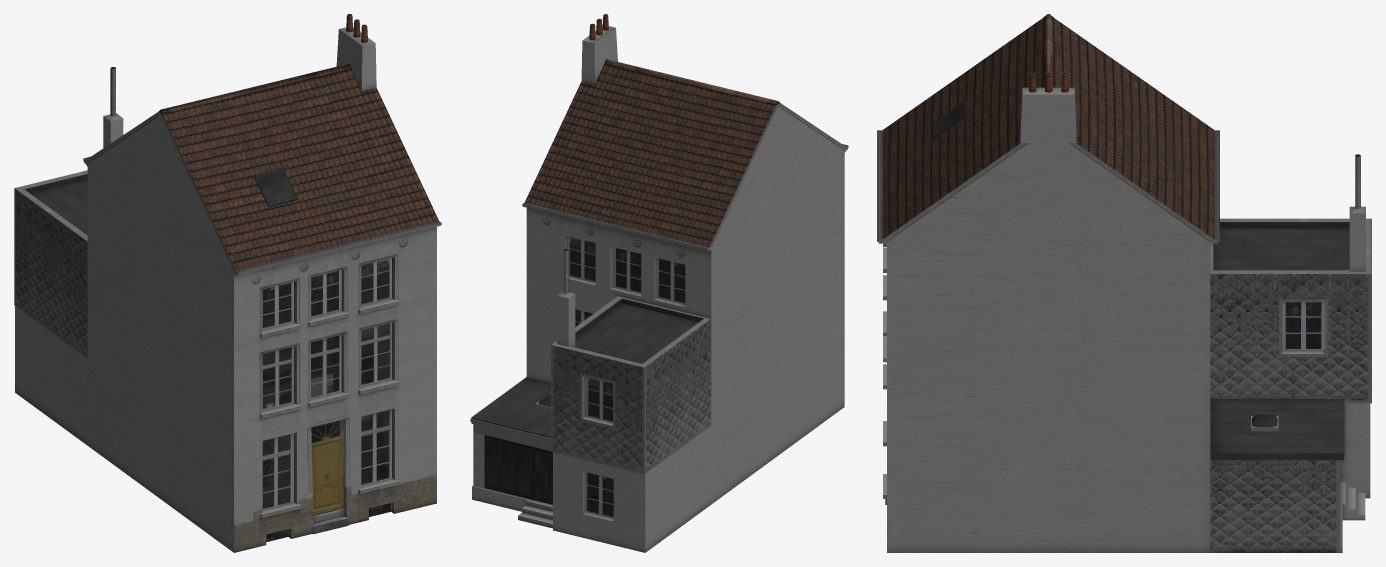
File: white.glb
The picture shows the model from 3 angles, left to right: view 1: azimuth 30°, elevation 25°; view 2: azimuth 150°, elevation 25°; view 3: azimuth 270°, elevation 25°; orthographic projection. The views are drawn at different scales.
Parts seen in each view (by area): view 1: m; view 2: m; view 3: m.
Part boxes in pixels (bbox=[...]): m: bbox=[14, 14, 441, 552]; m: bbox=[470, 14, 848, 552]; m: bbox=[877, 14, 1371, 552].
Size of the model in its own units: 8 by 16.24 by 15.3.
Materials: 1 (1 with a texture image).
